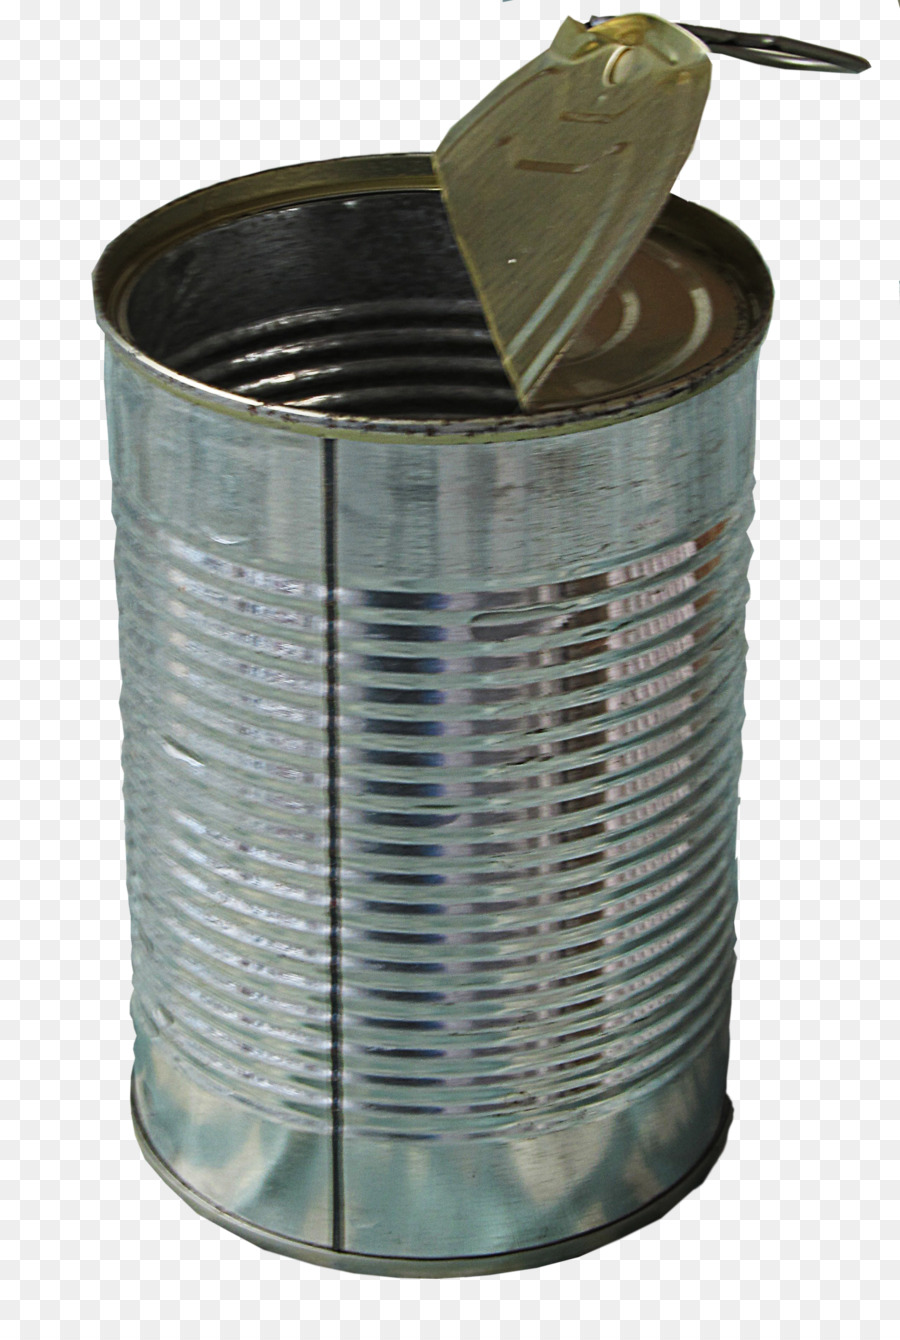metal: (90, 11, 879, 1276)
